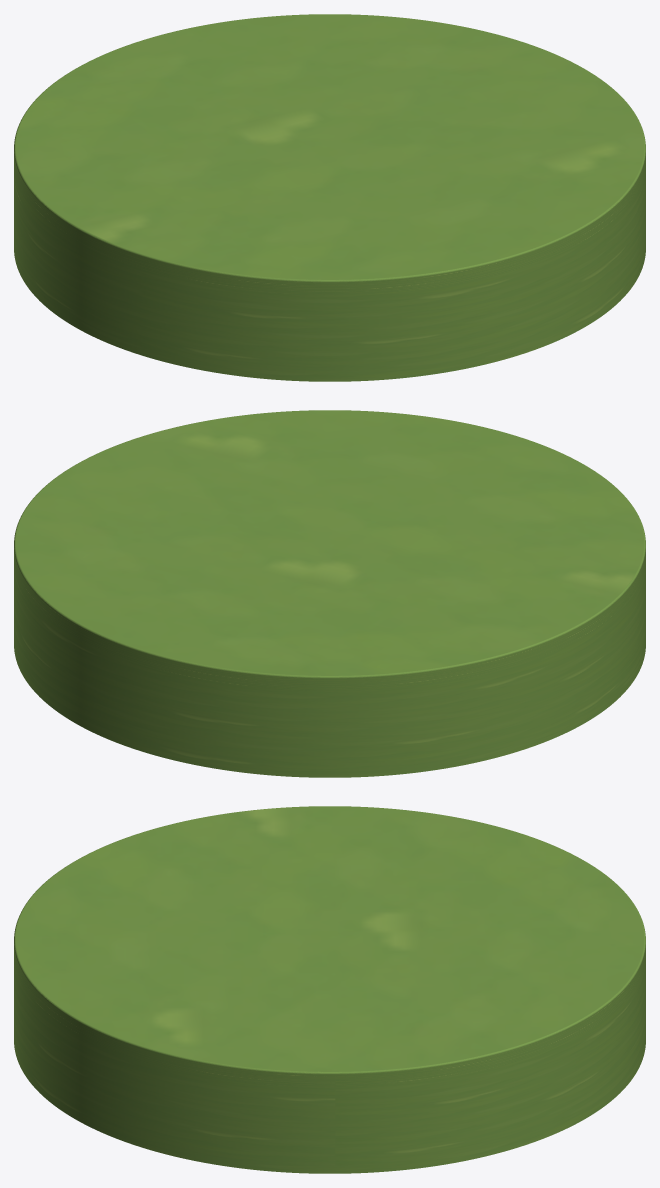
File: starter-01.glb
3 renders of one model, top to bottom at view 1: azimuth 30°, elevation 25°; view 2: azimuth 150°, elevation 25°; view 3: azimuth 270°, elevation 25°, orthographic.
Visible parts, largest first — view 1: geometry_0; view 2: geometry_0; view 3: geometry_0.
Boxes of the visible parts, bbox=[...] form: geometry_0: bbox=[14, 14, 645, 381]; geometry_0: bbox=[14, 410, 645, 777]; geometry_0: bbox=[14, 806, 645, 1173].
Bounding box in the file's own units: 33.98 × 6 × 33.98.
1 material, 1 textured.
